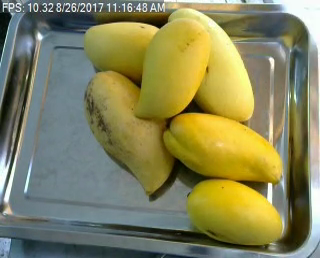Mango: (83, 71, 176, 193), (167, 8, 254, 121), (162, 113, 279, 182), (132, 18, 211, 115), (185, 179, 283, 245), (82, 21, 163, 81)
